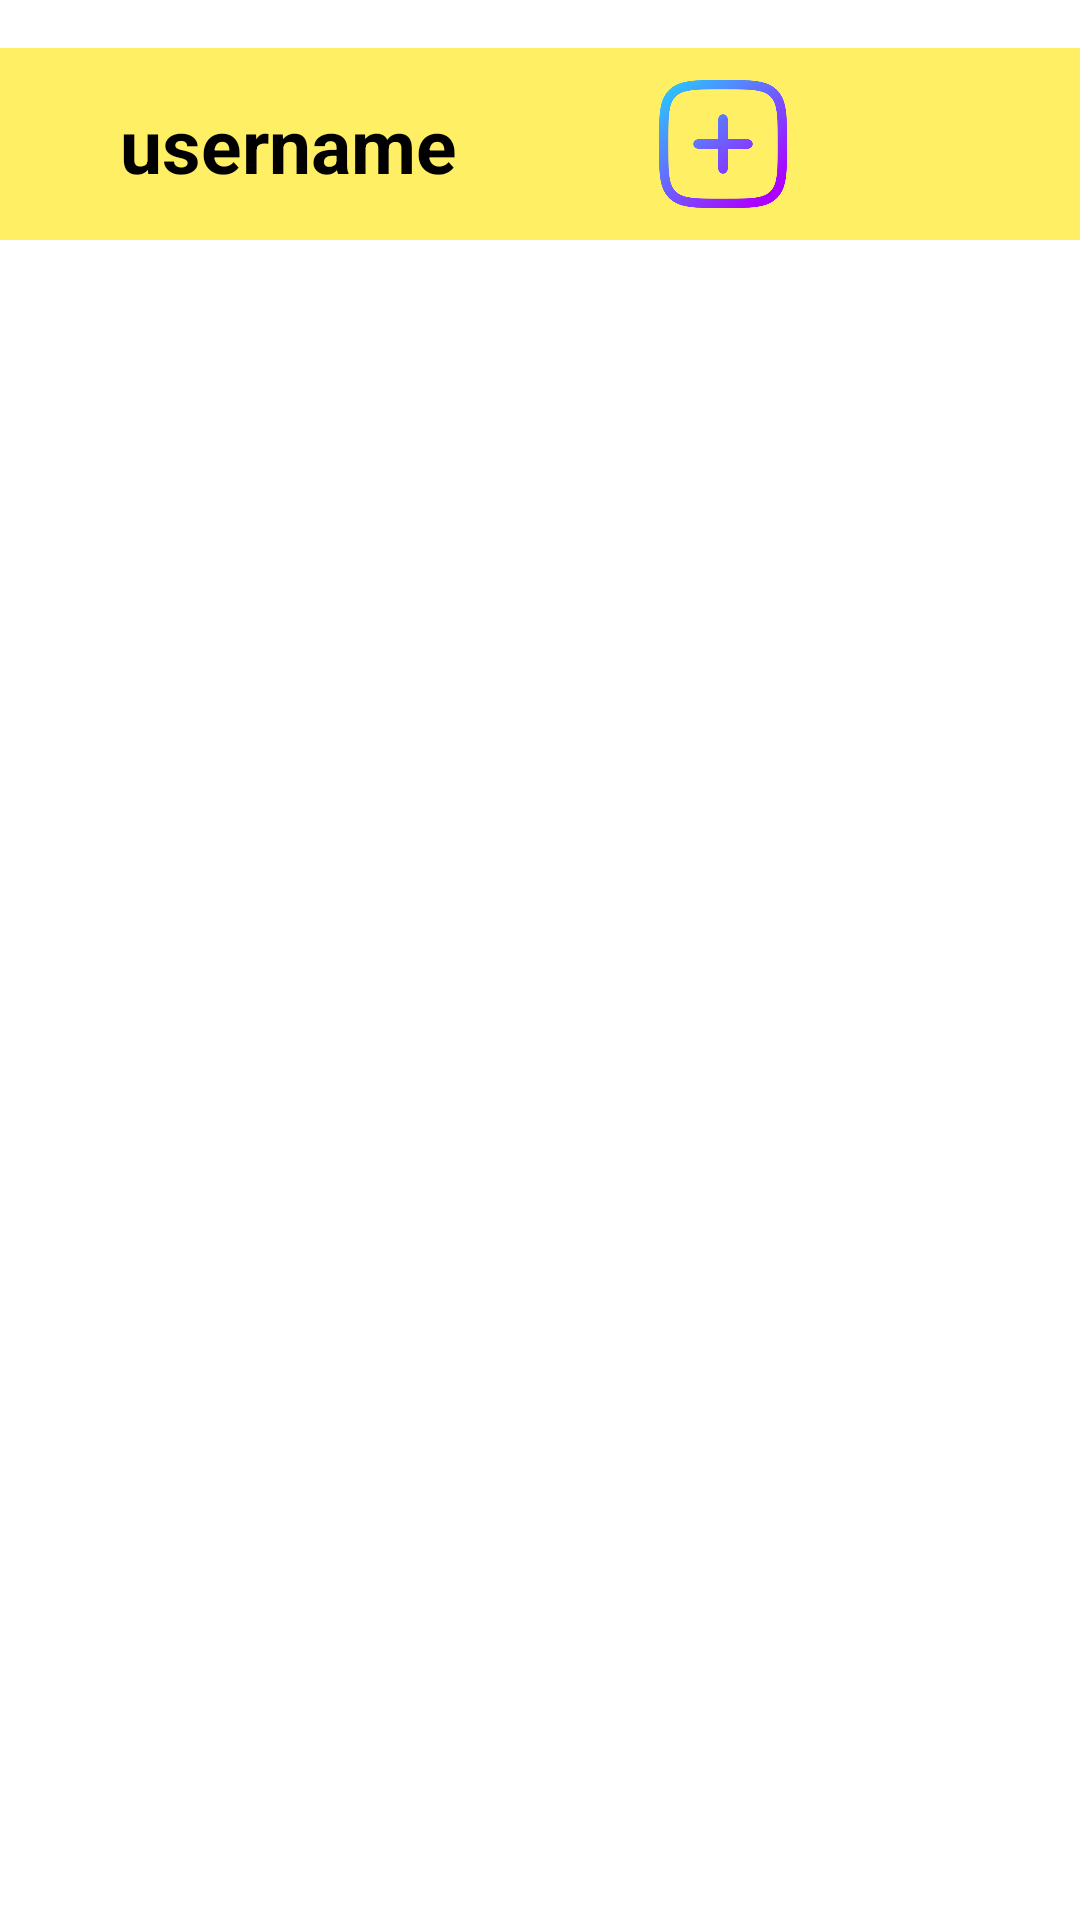

Where to tap for icons on this 1080x1920 app screen, as (x,y):
plus: (723,144)
